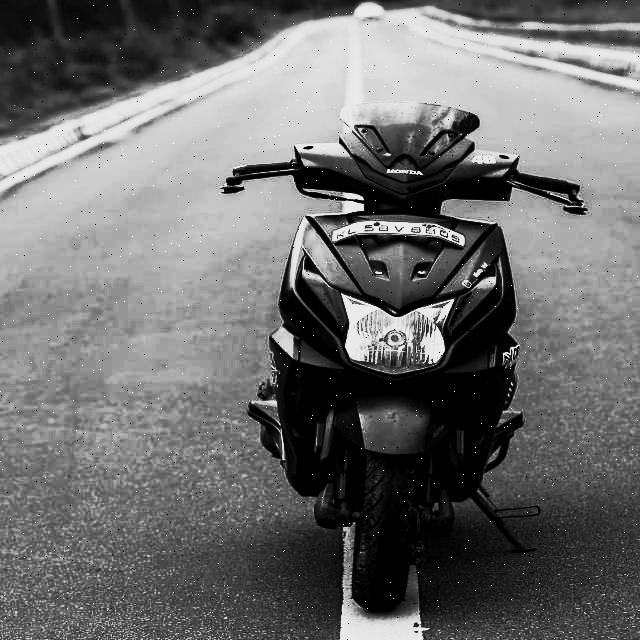Bike: (216, 98, 589, 640)
